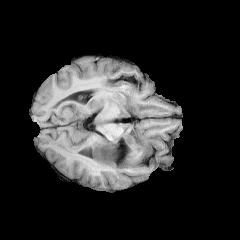glioma: (90, 137, 135, 169)
